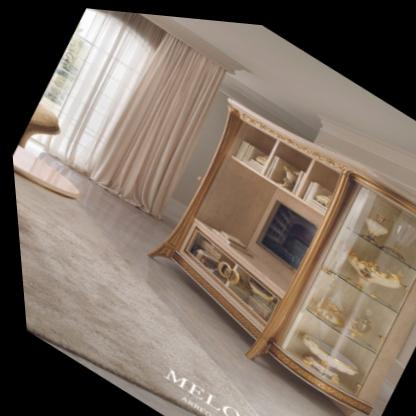Carpet: (11, 178, 254, 416)
Cupboard: (108, 68, 416, 416)
Curtains: (79, 27, 225, 217)
